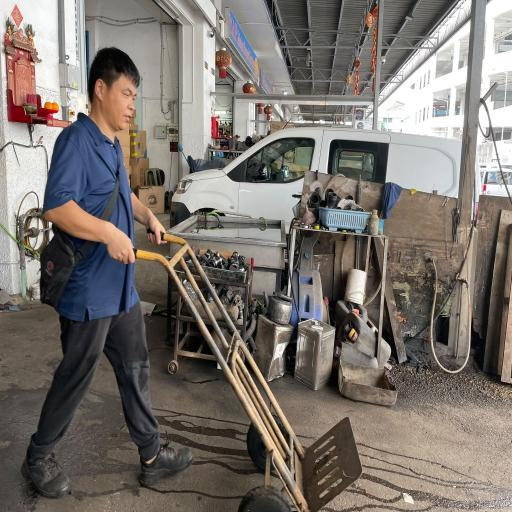person_right: (21, 47, 362, 512)
